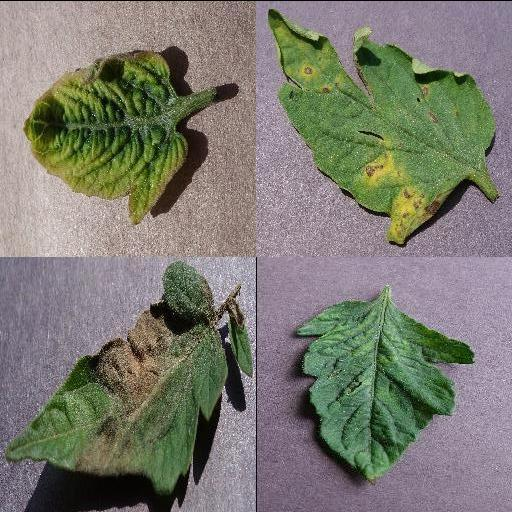Late Blight: (4, 259, 230, 491)
Mosaic Virus: (293, 297, 477, 483)
Septoria: (266, 6, 496, 243)
Yellow Leaf Curl Virus: (24, 48, 190, 224)
